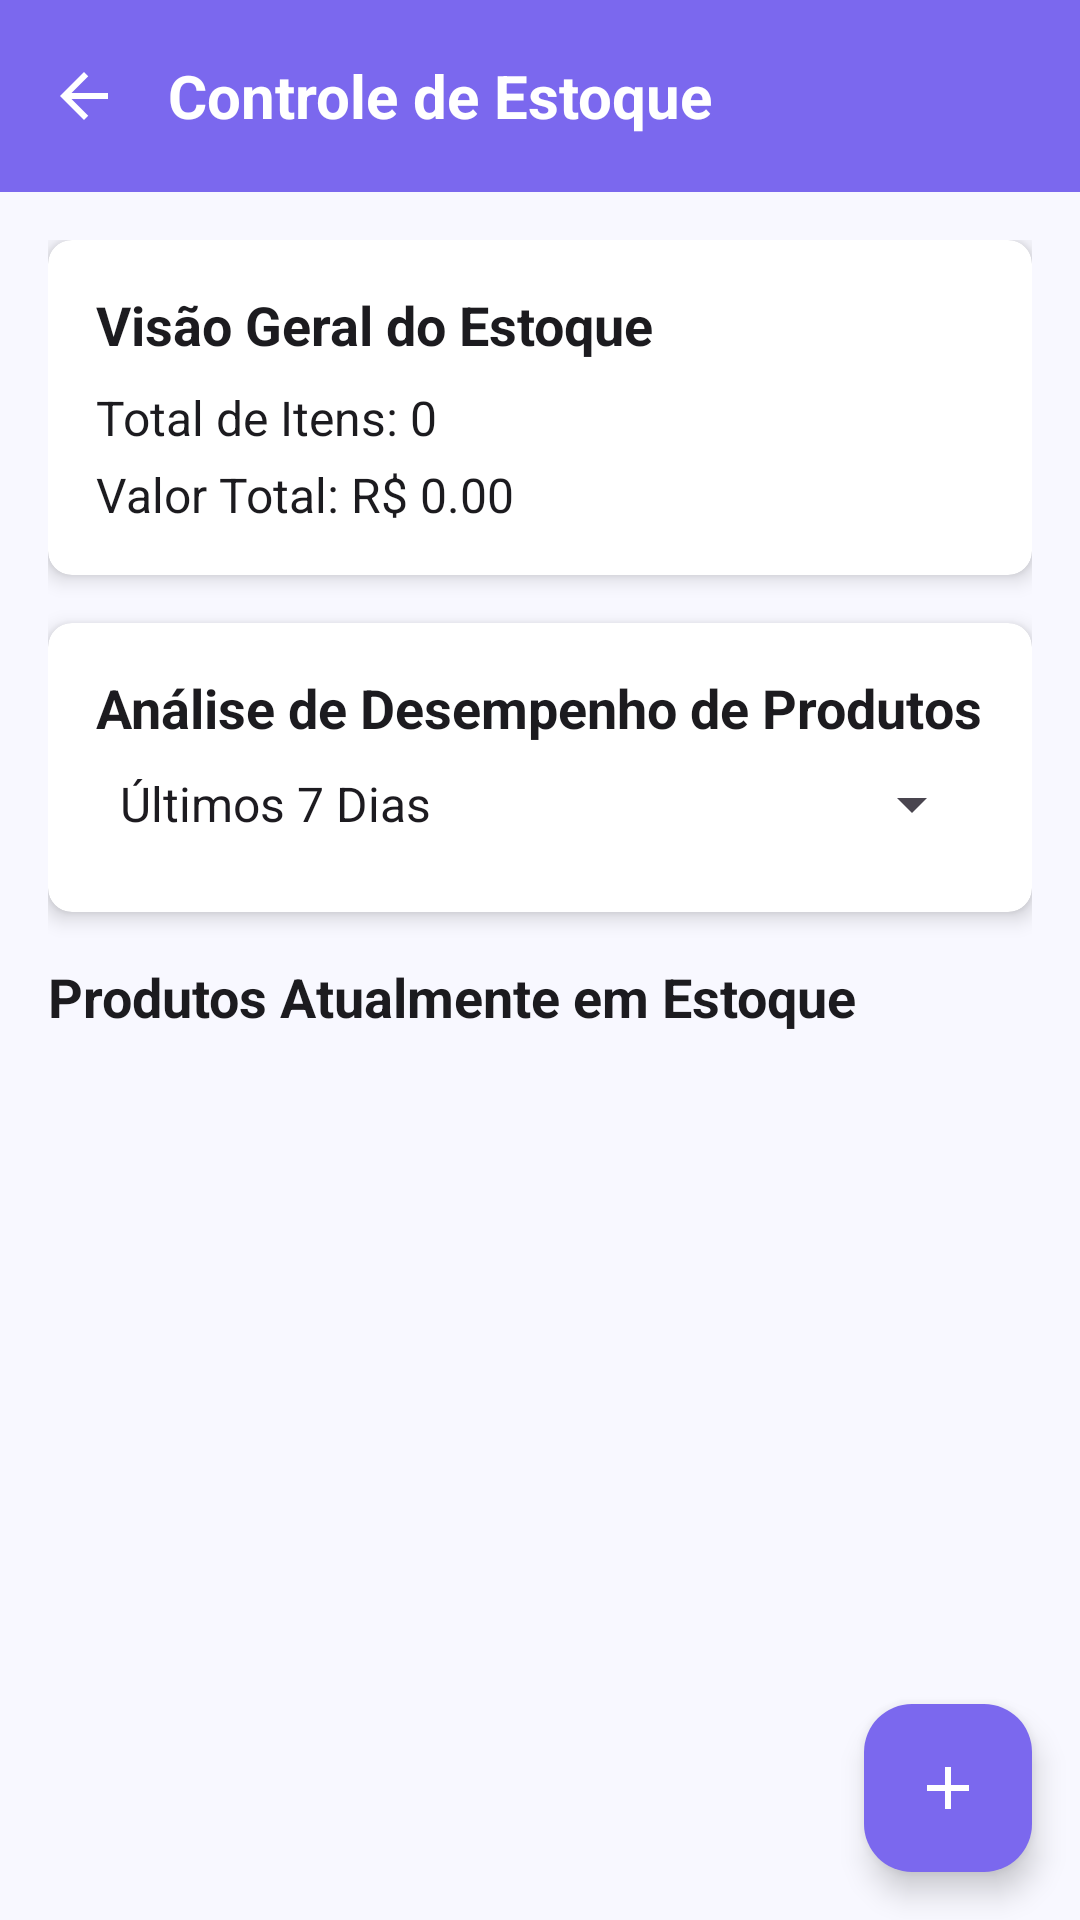

Screen size 1080×1920. Icon name, then its center in pixels as (x=x, y=y):
Adicionar Novo Produto: (x=948, y=1788)
Voltar: (x=84, y=96)
